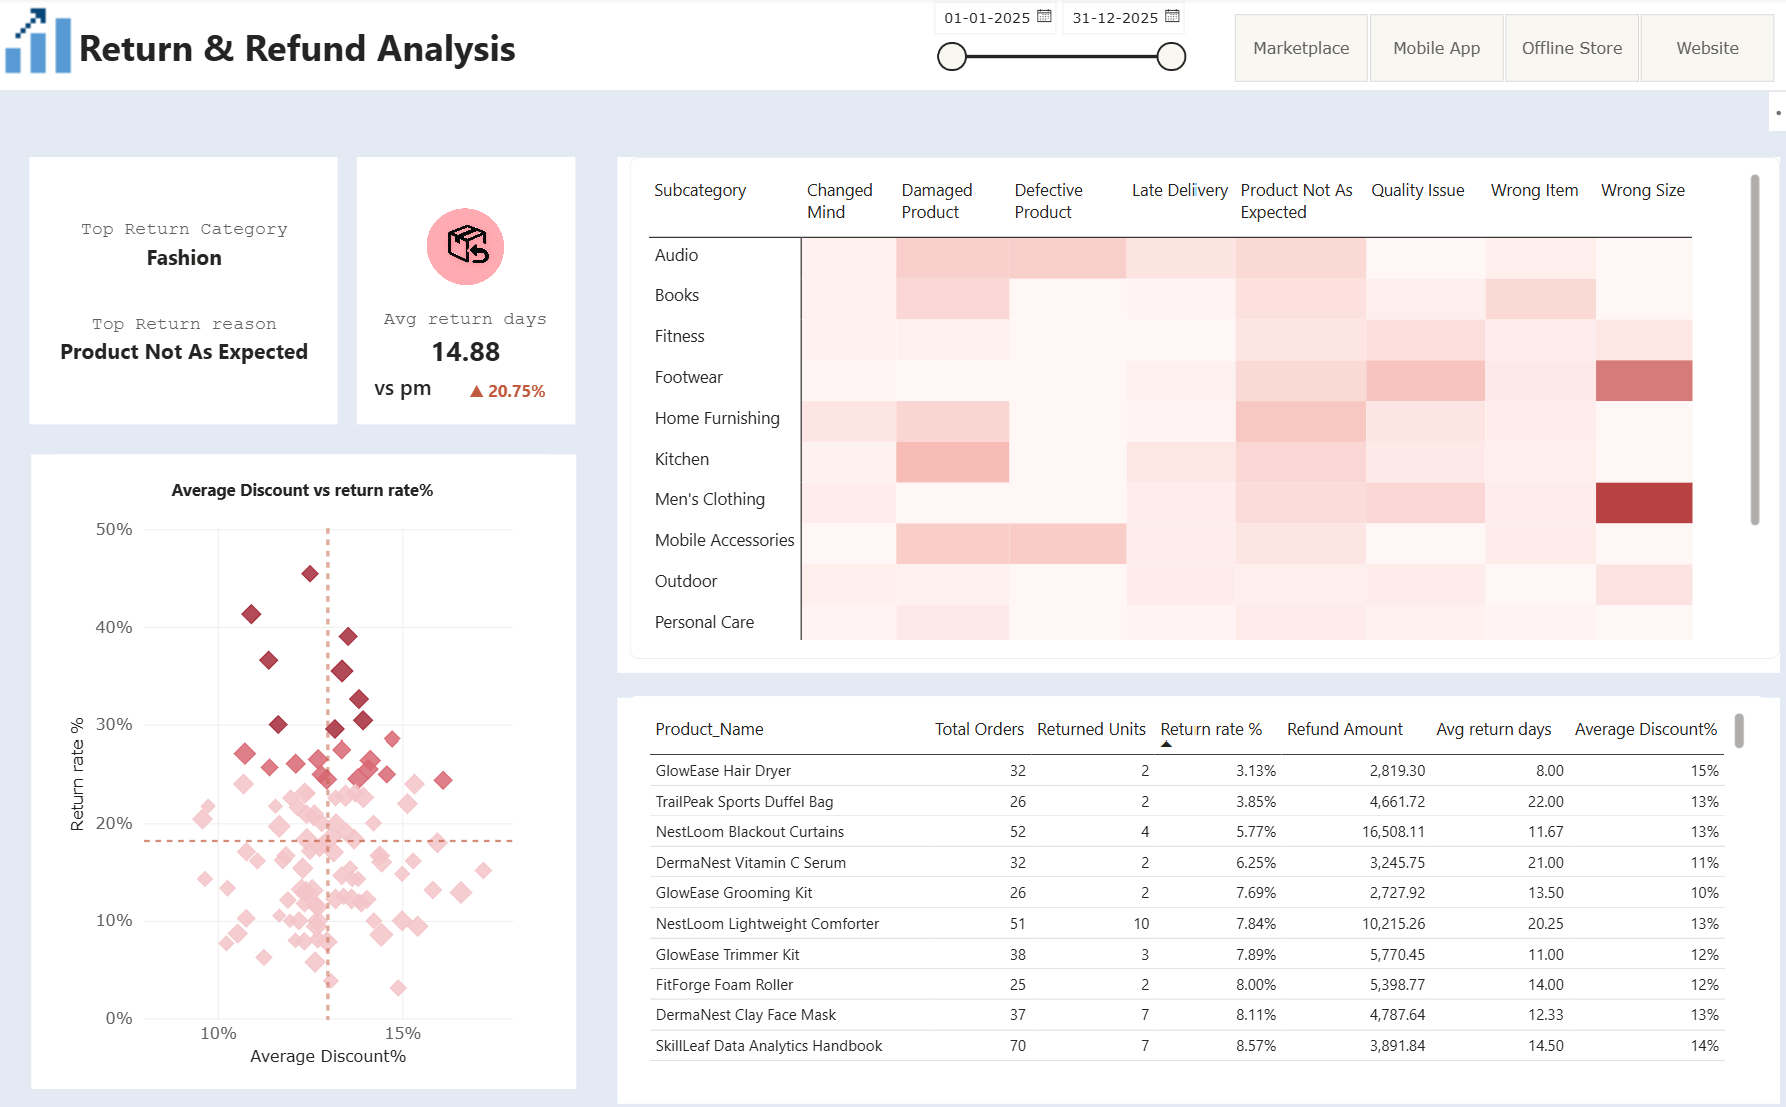

The page's visual inventory and layout, read from the dashboard file:
{"tool":"powerbi","page":{"name":"Duplicate of Executive Summary","canvas":[1600,1000],"ordinal":1},"visuals":[{"type":"shape","box":[0,0,1599.7,83.6],"z":0},{"type":"shape","box":[28,141.5,272,236],"z":1000},{"type":"shape","box":[317.2,141.5,193,236],"z":2000},{"type":"shape","box":[547.3,141.5,1024.5,455.5],"z":3000},{"type":"shape","box":[547.3,618.8,1024.5,357.6],"z":4000},{"type":"shape","box":[29.7,405,481.2,559.3],"z":5000},{"type":"textbox","box":[71.5,23.3,446.2,45.1],"z":6000},{"type":"cardVisual","fields":{"Data":["2nd page measures.Top Return Category"]},"box":[31.6,161.6,267.4,116.6],"z":7000},{"type":"cardVisual","fields":{"Data":["2nd page measures.Avg return days"]},"box":[317.2,258.1,192.8,91.7],"z":8000},{"type":"slicer","fields":{"Values":["Dim_Channel.Sales_Channel"]},"box":[1069.6,14,516.2,63.7],"z":9000},{"type":"image","box":[332.7,161.7,160.1,125.9],"z":10000},{"type":"slicer","fields":{"Values":["Dim_Date.Date"]},"box":[819.3,0,233.2,77.7],"z":11000},{"type":"cardVisual","fields":{"Data":["1st page measures.Returned Orders mom var"]},"box":[399.6,307.8,102.6,80.8],"z":12000},{"type":"textbox","box":[332.7,332.7,80.8,45.1],"z":13000},{"type":"cardVisual","fields":{"Data":["2nd page measures.Top Return reason"]},"box":[31.6,245.3,267.4,116.6],"z":14000},{"type":"pivotTable","fields":{"Columns":["Dim_ReturnReason.Return_Reason"],"Rows":["Dim_Products.Subcategory"],"Values":["1st page measures.Returned Units"]},"box":[558.1,141.5,1013.7,443.1],"z":15000},{"type":"scatterChart","title":"Average Discount vs return rate%","fields":{"Category":["Dim_Products.Product_Name"],"Size":["1st page measures.Total Orders"],"X":["1st page measures.Average Discount%"],"Y":["1st page measures.Return rate %"]},"box":[42.7,405,449.6,555.5],"z":15001},{"type":"tableEx","fields":{"Values":["Dim_Products.Product_Name","1st page measures.Total Orders","1st page measures.Returned Units","1st page measures.Return rate %","1st page measures.Refund Amount","2nd page measures.Avg return days","1st page measures.Average Discount%"]},"box":[557.4,618.7,999.6,345.6],"z":15002},{"type":"image","box":[0,7.4,70.6,63.2],"z":15003}]}

Visuals, with their boxes in screenshot pixels (x1, y1, x2, y2), scaled from the page's 1600x1000 canvas onto the 1786x1107 screenshot:
shape: x1=0 y1=0 x2=1785 y2=93
shape: x1=31 y1=157 x2=335 y2=418
shape: x1=354 y1=157 x2=570 y2=418
shape: x1=611 y1=157 x2=1755 y2=661
shape: x1=611 y1=685 x2=1755 y2=1081
shape: x1=33 y1=448 x2=570 y2=1067
textbox: x1=80 y1=26 x2=578 y2=76
cardVisual - 2nd page measures.Top Return Category: x1=35 y1=179 x2=334 y2=308
cardVisual - 2nd page measures.Avg return days: x1=354 y1=286 x2=569 y2=387
slicer - Dim_Channel.Sales_Channel: x1=1194 y1=15 x2=1770 y2=86
image: x1=371 y1=179 x2=550 y2=318
slicer - Dim_Date.Date: x1=915 y1=0 x2=1175 y2=86
cardVisual - 1st page measures.Returned Orders mom var: x1=446 y1=341 x2=561 y2=430
textbox: x1=371 y1=368 x2=462 y2=418
cardVisual - 2nd page measures.Top Return reason: x1=35 y1=272 x2=334 y2=401
pivotTable - Dim_ReturnReason.Return_Reason x Dim_Products.Subcategory: x1=623 y1=157 x2=1755 y2=647
"Average Discount vs return rate%" scatterChart: x1=48 y1=448 x2=550 y2=1063
tableEx - Dim_Products.Product_Name x 1st page measures.Total Orders: x1=622 y1=685 x2=1738 y2=1067
image: x1=0 y1=8 x2=79 y2=78
